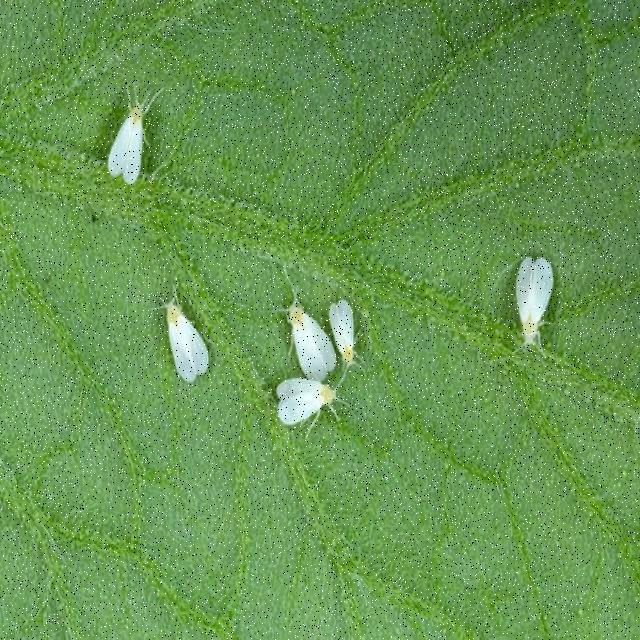Whiteflies: (490, 220, 575, 354), (140, 270, 226, 395), (85, 72, 178, 181), (271, 288, 340, 386), (268, 365, 347, 438), (315, 288, 365, 378)
